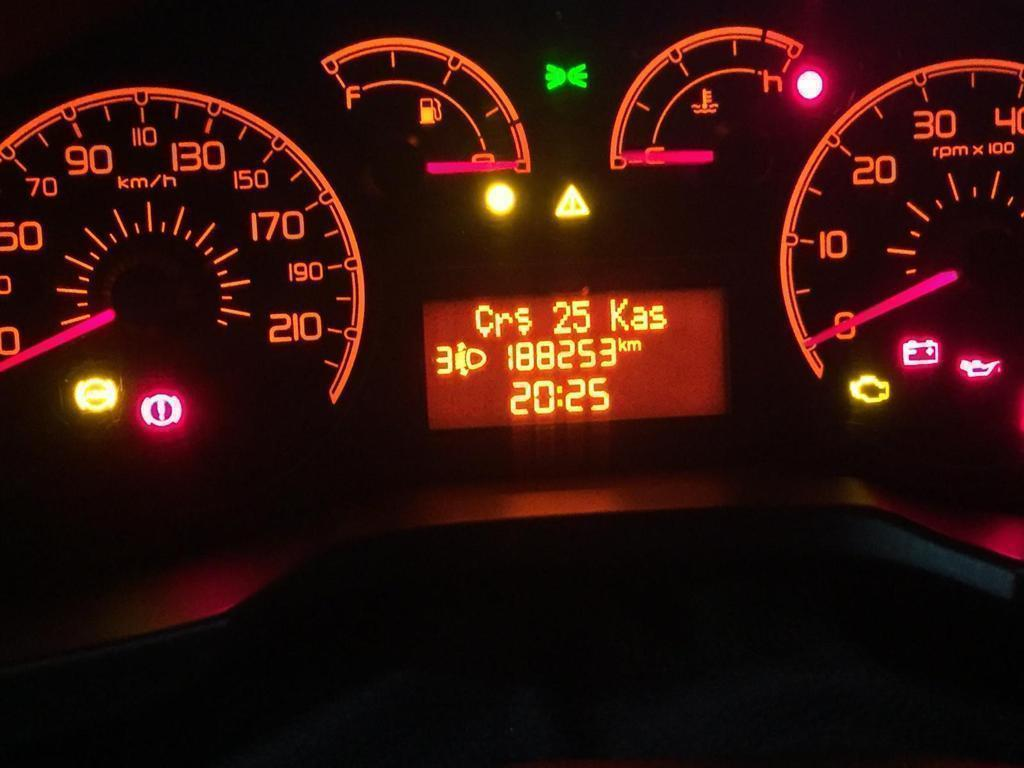0: (532, 379, 555, 414)
1: (506, 343, 514, 371)
2: (509, 381, 531, 415), (564, 378, 586, 412), (551, 300, 571, 334), (556, 339, 574, 369)
3: (434, 345, 453, 375), (598, 337, 616, 368)
5: (587, 377, 610, 411), (571, 299, 590, 333), (576, 338, 596, 368)
8: (514, 341, 534, 371), (535, 340, 554, 370)
X: (609, 298, 629, 332), (474, 304, 493, 338), (513, 306, 533, 336), (629, 305, 648, 331), (648, 304, 667, 329), (494, 312, 513, 337), (627, 340, 642, 352), (555, 385, 563, 407), (617, 336, 627, 352)
odometer: (418, 285, 733, 433)
